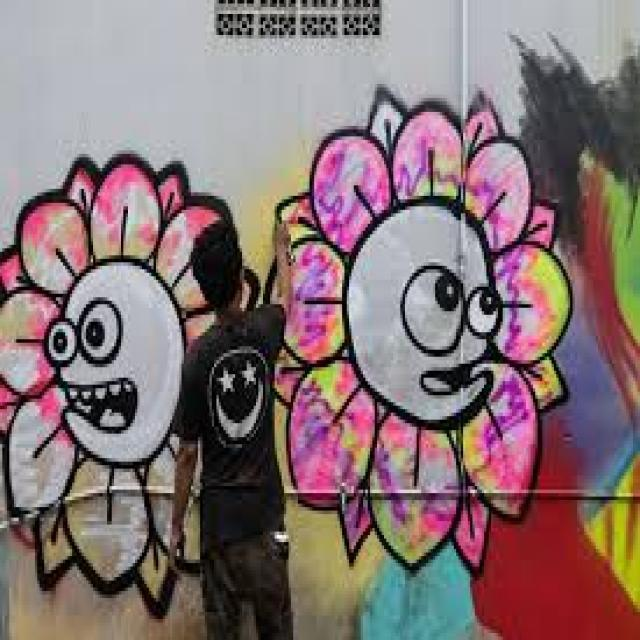-: (264, 80, 574, 576), (0, 155, 260, 624), (468, 28, 640, 640)
